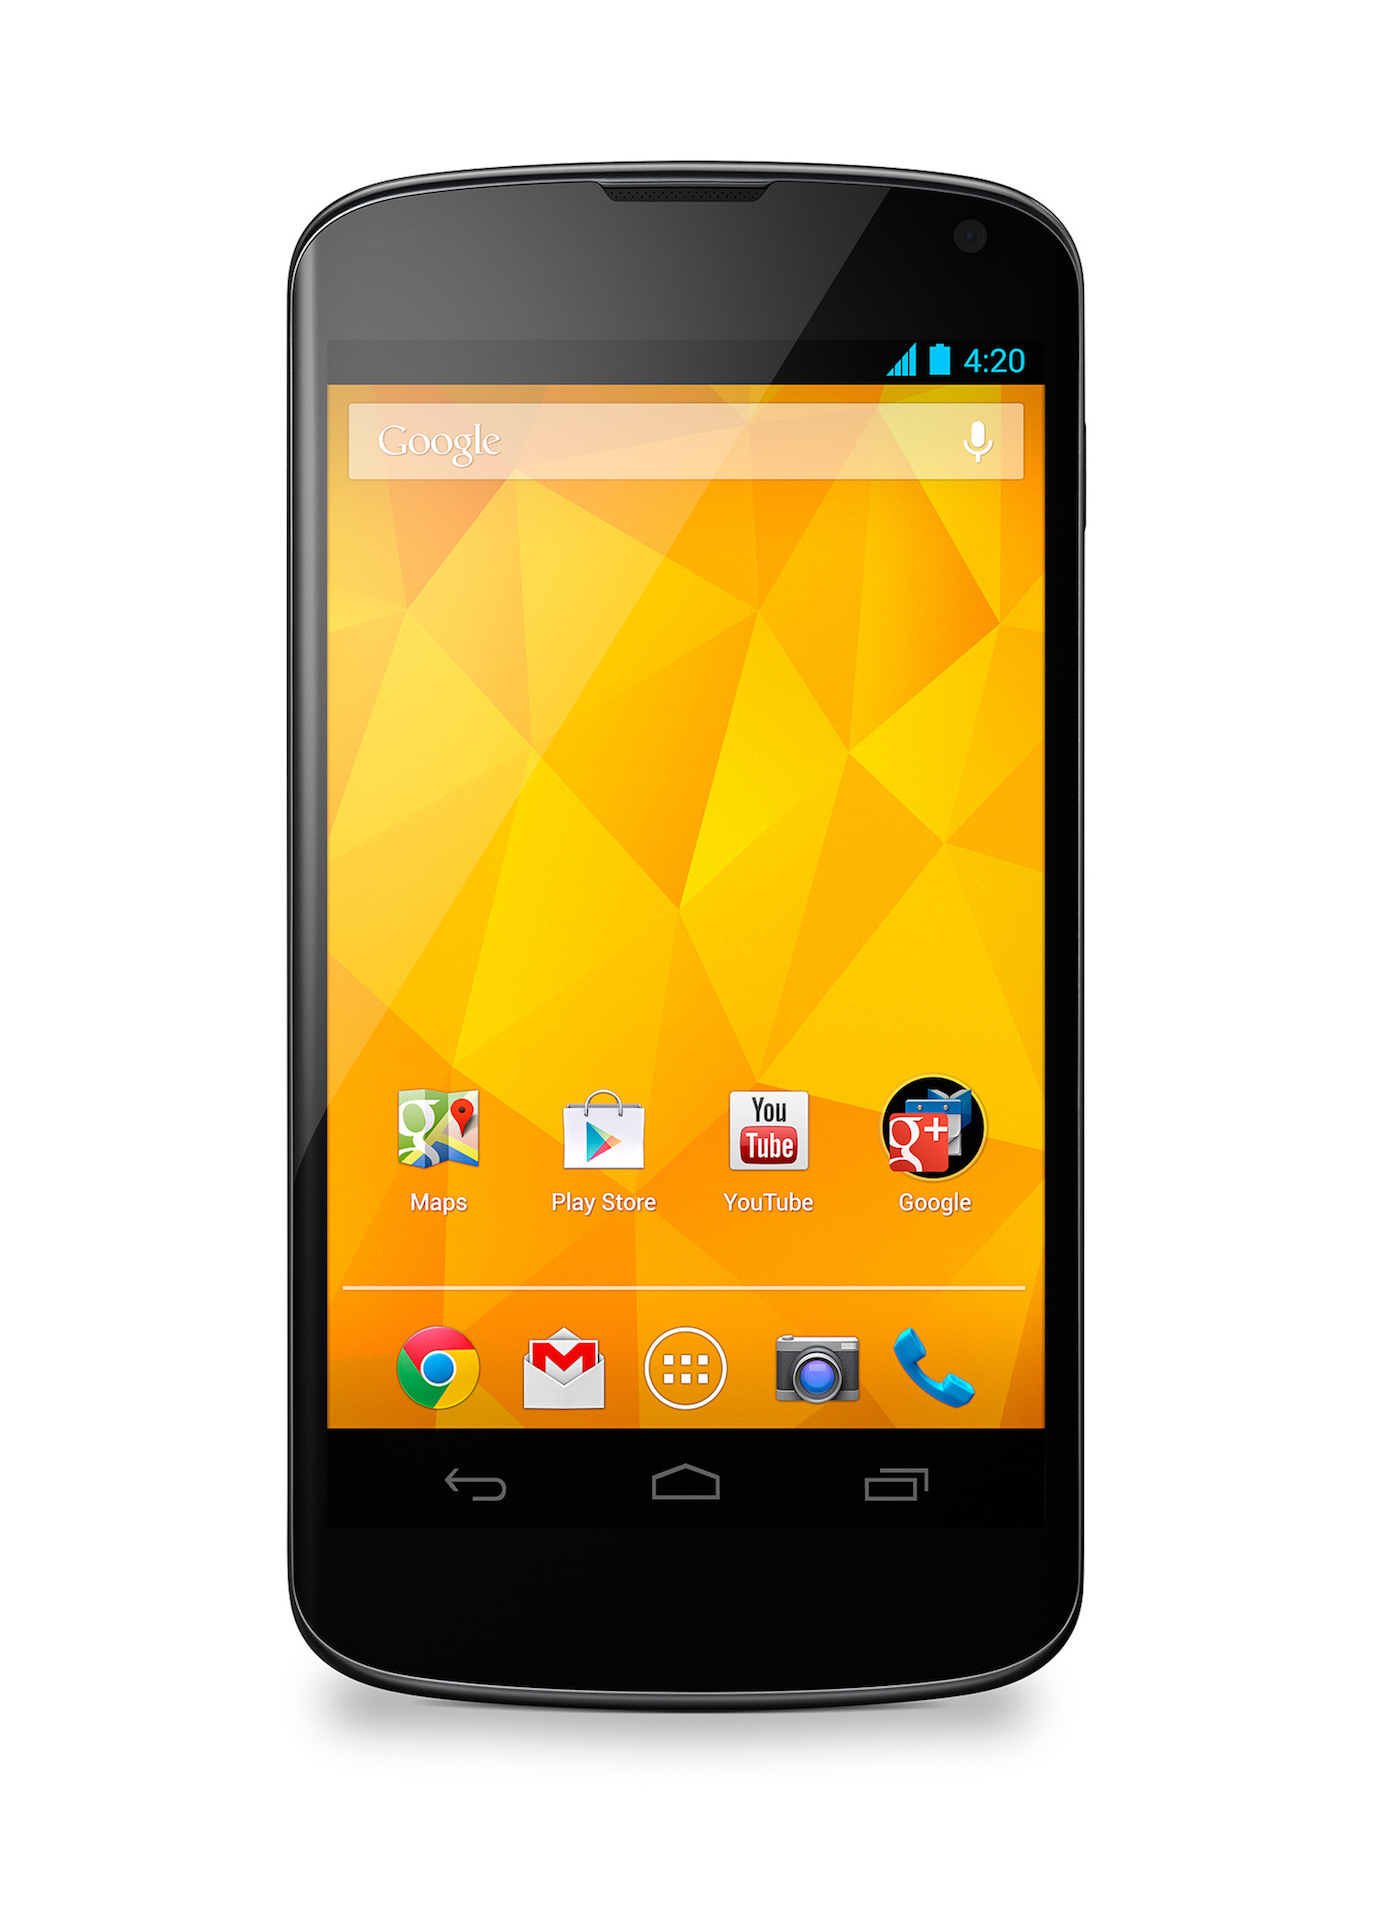smartphone: (285, 157, 1091, 1717)
